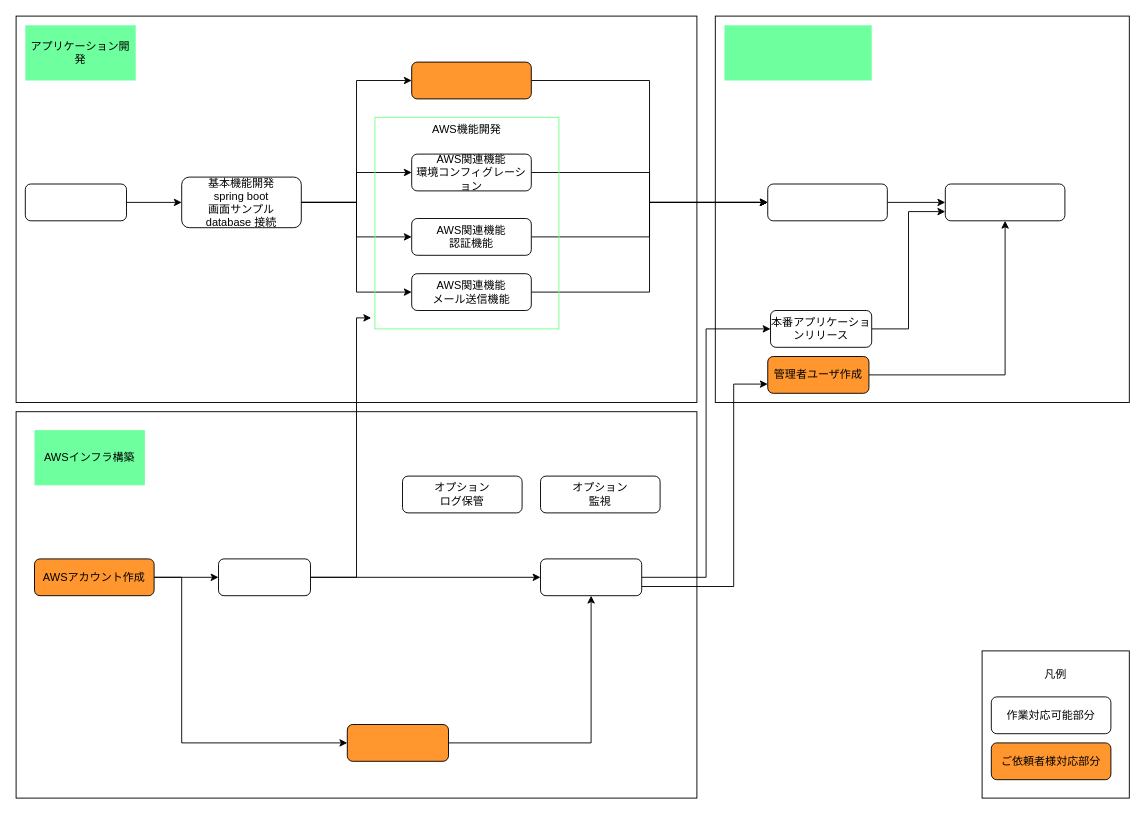
The diagram is 1145 pixels wide and 814 high, and some of its shapes have lost their labels. Each missing label, with the centre of its shape:
PJ作成 pom作成: the point at 75,202
テストリリース: the point at 797,52
ドメイン購入: the point at 397,742
本番システムリリース: the point at 1004,202
本番環境構築: the point at 591,577
検証用環境作成: the point at 264,577
機能結合 検証環境でAWS上で検証します: the point at 827,202
画面 機能開発: the point at 471,80
